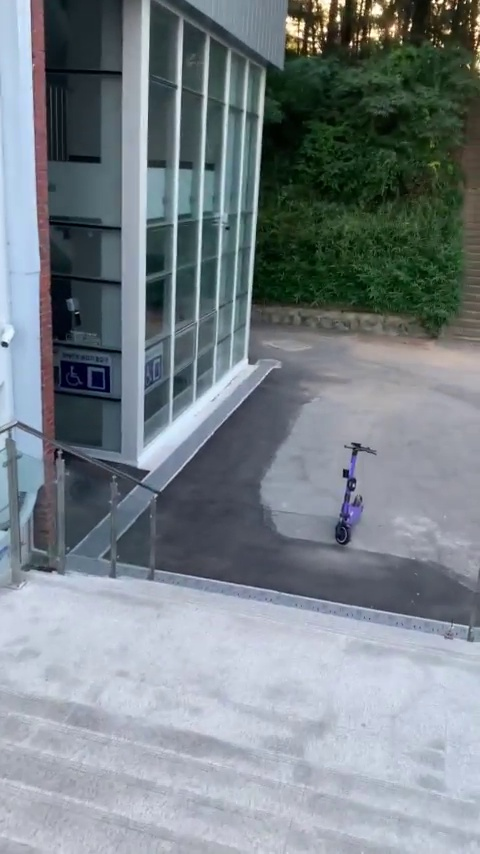beam: (330, 432, 380, 558)
